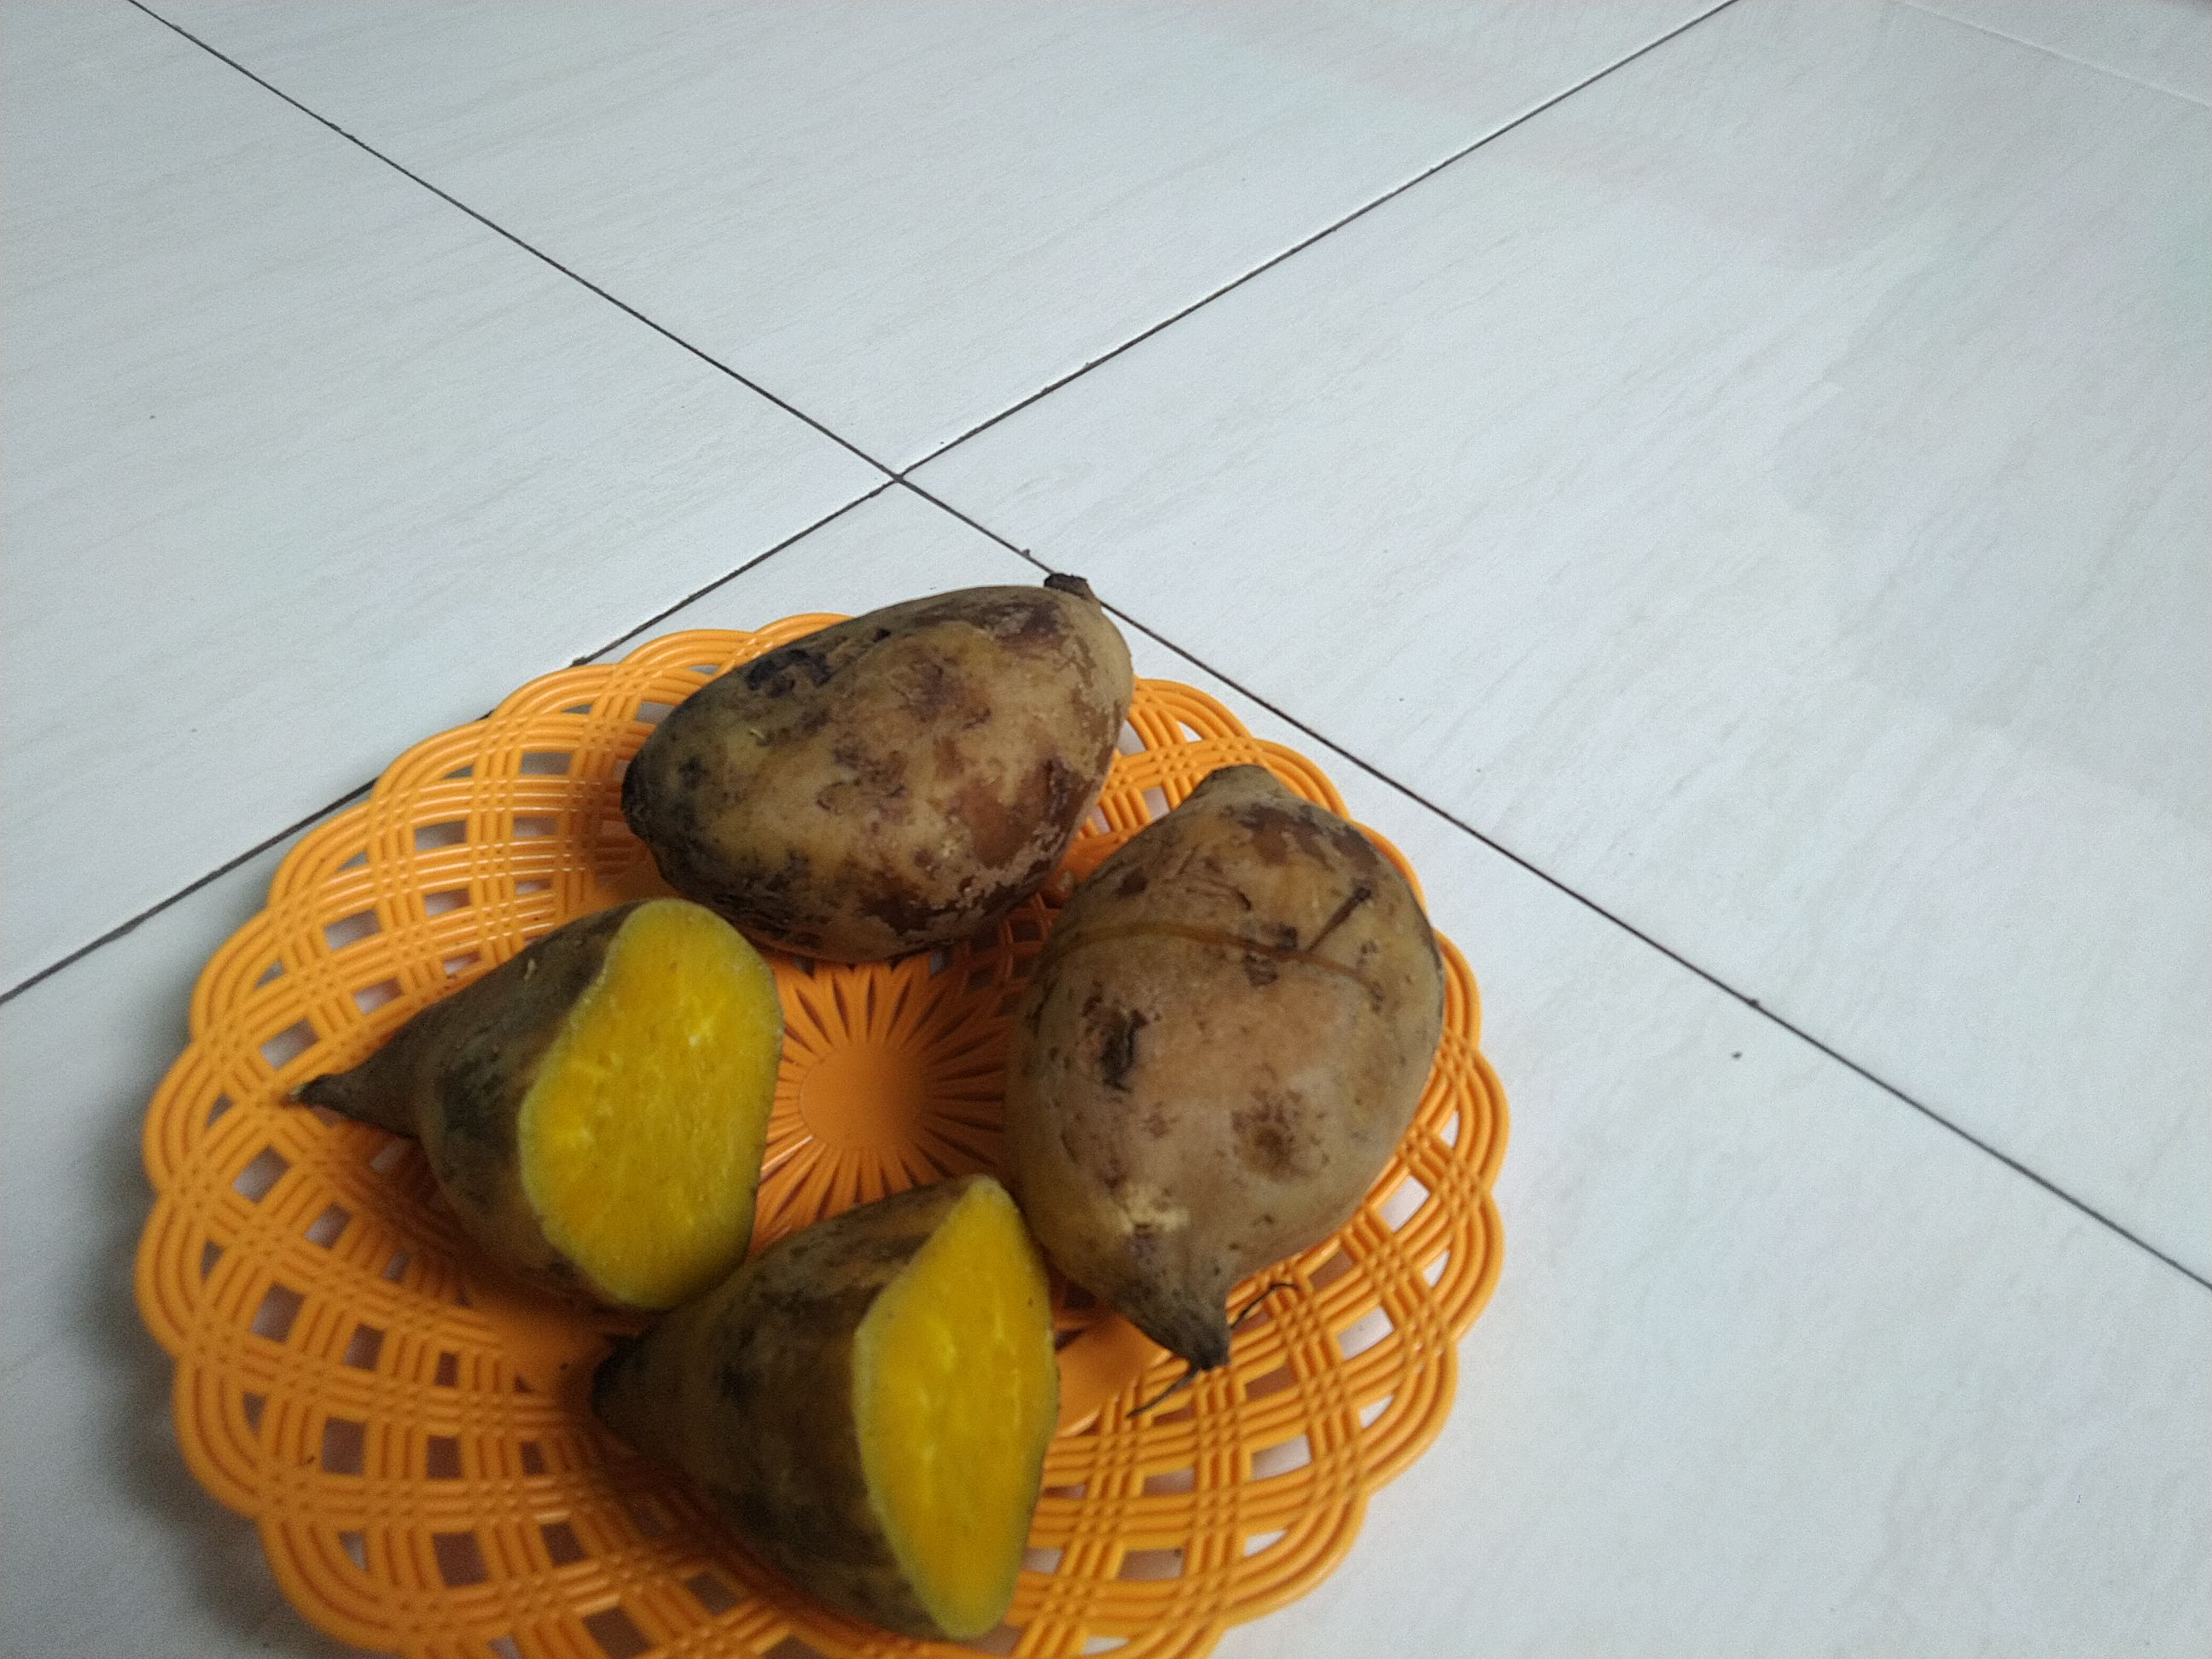ubi kuning: (981, 730, 1482, 1380), (589, 1138, 1075, 1640), (613, 563, 1148, 948), (291, 884, 766, 1314)
